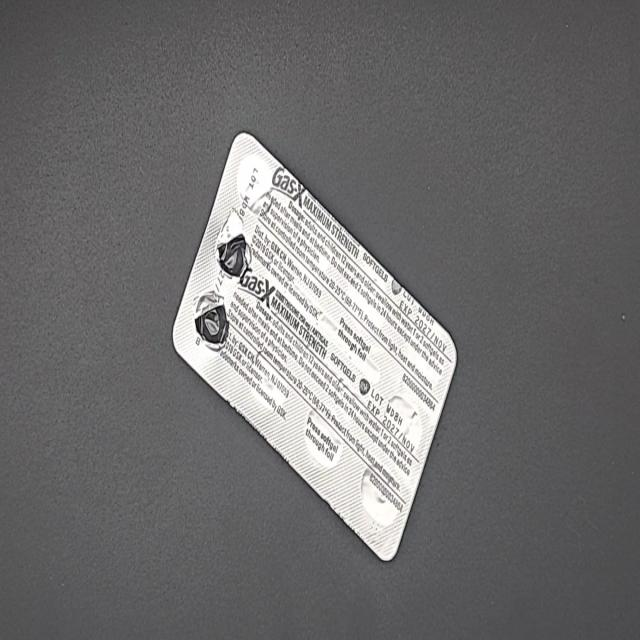defect: (212, 205, 252, 286), (190, 283, 232, 354)
